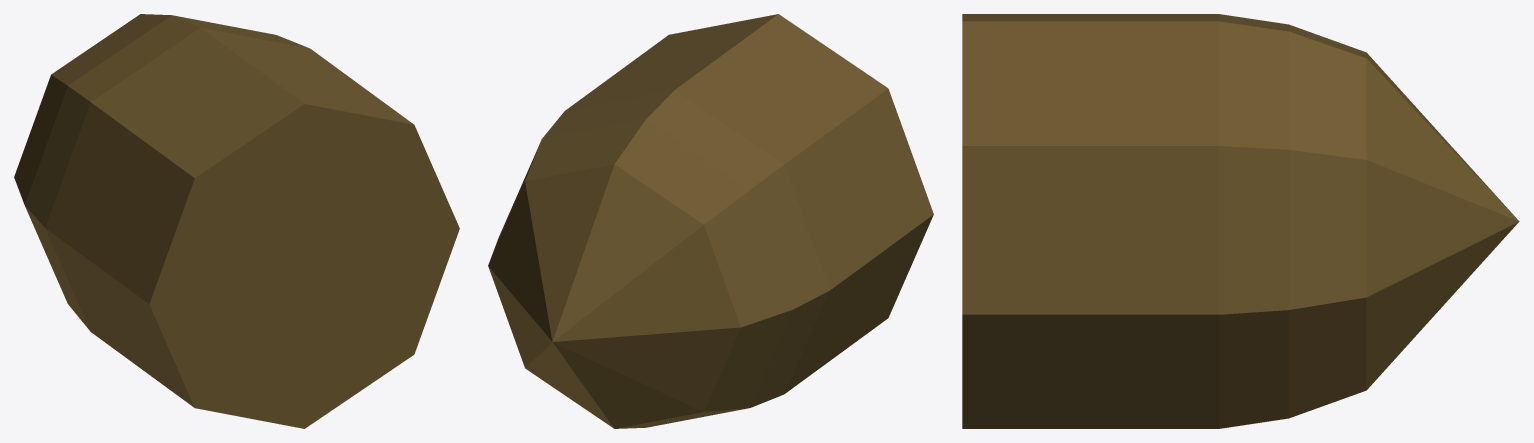
The model's file is bullet.fbx.
The picture shows the model from 3 angles, left to right: view 1: azimuth 30°, elevation 25°; view 2: azimuth 150°, elevation 25°; view 3: azimuth 270°, elevation 25°; orthographic projection. The views are drawn at different scales.
Visible parts, largest first — view 1: 円錐; view 2: 円錐; view 3: 円錐.
Boxes of the visible parts, x1,y1,x2,y2 form: 円錐: [14, 14, 459, 428]; 円錐: [488, 14, 933, 428]; 円錐: [962, 14, 1519, 428].
Size of the model in its own units: 3 by 3 by 3.78.
